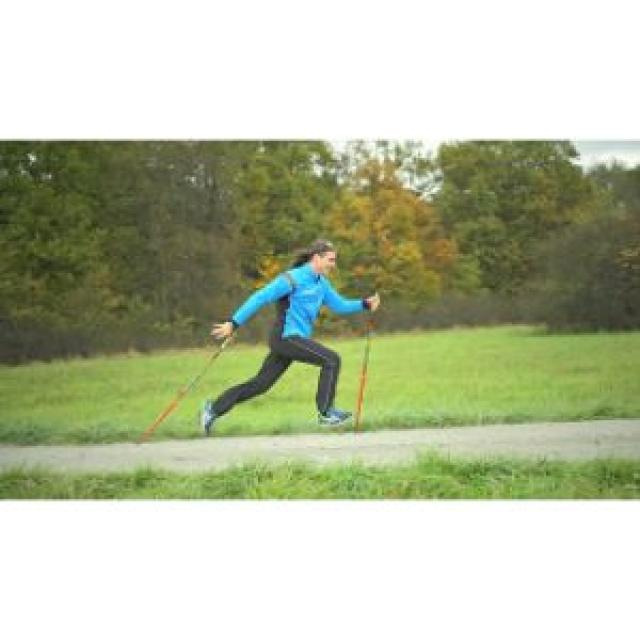nonfall: (191, 228, 410, 426)
